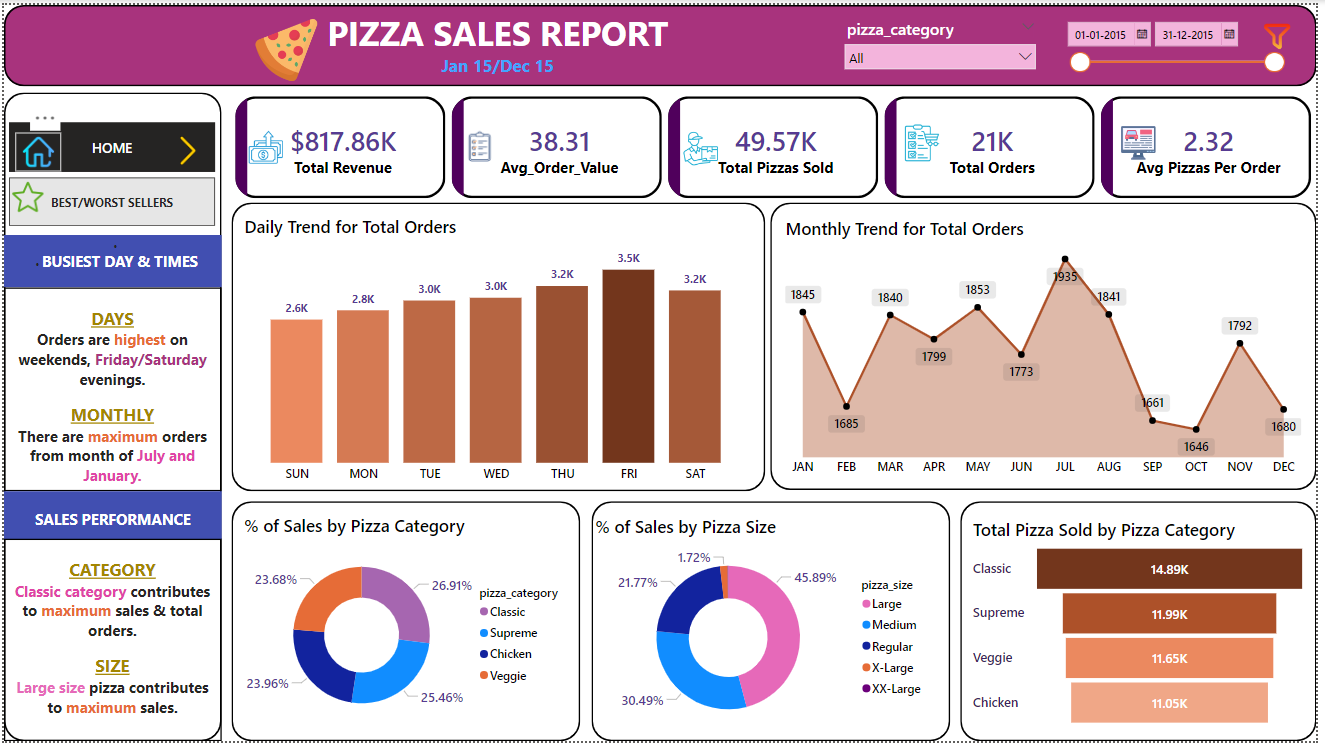

This screenshot's page, from the dashboard's own definition file:
{"tool":"powerbi","page":{"name":"HOME","canvas":[1650,925],"ordinal":0},"visuals":[{"type":"cardVisual","fields":{"Data":["pizza_sales.Total Revenue","pizza_sales.Avg_Order_Value","pizza_sales.Total Pizzas Sold","pizza_sales.Total Orders","pizza_sales.Avg Pizzas Per Order"]},"box":[285.9,110,1363.6,138.2],"z":0},{"type":"shape","box":[285.9,248.2,670.8,362.9],"z":1000},{"type":"columnChart","title":"Daily Trend for Total Orders","fields":{"Category":["pizza_sales.Order Day"],"Y":["pizza_sales.Total Orders"]},"box":[296.9,263.9,644.1,345.6],"z":2000},{"type":"shape","box":[963,248.2,686.5,361.3],"z":3000},{"type":"areaChart","title":"Monthly Trend for Total Orders","fields":{"Category":["pizza_sales.Order Month"],"Y":["pizza_sales.Total Orders"]},"box":[977.2,265.5,658.2,336.2],"z":4000},{"type":"shape","box":[285.9,623.7,438.3,301.6],"z":5000},{"type":"shape","box":[0,110,273.4,815.3],"z":6000},{"type":"shape","box":[738.4,623.7,450.9,301.6],"z":7000},{"type":"shape","box":[1201.8,623.7,447.7,301.6],"z":8000},{"type":"donutChart","title":"% of Sales by Pizza Category","fields":{"Category":["pizza_sales.pizza_category"],"Y":["pizza_sales.Total Revenue"]},"box":[296.9,639.4,427.3,281.2],"z":9000},{"type":"donutChart","title":"% of Sales by Pizza Size","fields":{"Y":["pizza_sales.Total Revenue"],"Category":["pizza_sales.pizza_size"]},"box":[738.4,641,432,284.4],"z":10000},{"type":"funnel","title":"Total Pizza Sold by Pizza Category","fields":{"Category":["pizza_sales.pizza_category"],"Y":["pizza_sales.Total Pizzas Sold"]},"box":[1212.8,644.1,428.9,268.6],"z":11000},{"type":"textbox","box":[0,289.1,273.4,66],"z":12000},{"type":"textbox","box":[0,355,273.4,256.1],"z":13000},{"type":"textbox","box":[0,611.1,273.4,59.7],"z":14000},{"type":"textbox","box":[0,670.8,273.4,254.5],"z":15000},{"type":"shape","box":[0,0,1649.6,102.1],"z":16000},{"type":"textbox","box":[359.8,0,521.6,102.1],"z":17000},{"type":"slicer","fields":{"Values":["pizza_sales.pizza_category"]},"box":[1046.3,11,260.8,102.1],"z":18000},{"type":"slicer","fields":{"Values":["pizza_sales.order_date"]},"box":[1324.4,11,293.8,80.1],"z":19000},{"type":"pageNavigator","box":[6.3,147.7,259.2,62.8],"z":20000},{"type":"pageNavigator","box":[6.3,216.8,259.2,61.3],"z":21000},{"type":"image","box":[230.9,11,248.2,91.1],"z":22000},{"type":"image","box":[285.9,149.2,86.4,59.7],"z":23000},{"type":"image","box":[573.4,146.1,48.7,62.8],"z":24000},{"type":"image","box":[848.3,144.5,55,72.3],"z":25000},{"type":"image","box":[1118.6,144.5,70.7,58.1],"z":26000},{"type":"image","box":[1388.8,146.1,73.8,55],"z":27000},{"type":"image","box":[188.5,160.2,84.8,45.6],"z":28000},{"type":"image","box":[14.1,160.2,58.1,48.7],"z":29000},{"type":"image","box":[0,216.8,59.7,48.7],"z":30000},{"type":"image","box":[1558.4,11,83.3,56.6],"z":31000}]}

Visuals, with their boxes in screenshot pixels (x1, y1, x2, y2), scaled from the page's 1650x925 canvas onto the 1325x745 screenshot:
cardVisual - pizza_sales.Total Revenue x pizza_sales.Avg_Order_Value: Rect(230, 89, 1324, 200)
shape: Rect(230, 200, 768, 492)
"Daily Trend for Total Orders" columnChart: Rect(238, 213, 756, 491)
shape: Rect(773, 200, 1324, 491)
"Monthly Trend for Total Orders" areaChart: Rect(785, 214, 1313, 485)
shape: Rect(230, 502, 582, 744)
shape: Rect(0, 89, 220, 744)
shape: Rect(593, 502, 955, 744)
shape: Rect(965, 502, 1324, 744)
"% of Sales by Pizza Category" donutChart: Rect(238, 515, 582, 741)
"% of Sales by Pizza Size" donutChart: Rect(593, 516, 940, 744)
"Total Pizza Sold by Pizza Category" funnel: Rect(974, 519, 1318, 735)
textbox: Rect(0, 233, 220, 286)
textbox: Rect(0, 286, 220, 492)
textbox: Rect(0, 492, 220, 540)
textbox: Rect(0, 540, 220, 744)
shape: Rect(0, 0, 1324, 82)
textbox: Rect(289, 0, 708, 82)
slicer - pizza_sales.pizza_category: Rect(840, 9, 1050, 91)
slicer - pizza_sales.order_date: Rect(1064, 9, 1299, 73)
pageNavigator: Rect(5, 119, 213, 170)
pageNavigator: Rect(5, 175, 213, 224)
image: Rect(185, 9, 385, 82)
image: Rect(230, 120, 299, 168)
image: Rect(460, 118, 500, 168)
image: Rect(681, 116, 725, 175)
image: Rect(898, 116, 955, 163)
image: Rect(1115, 118, 1175, 162)
image: Rect(151, 129, 219, 166)
image: Rect(11, 129, 58, 168)
image: Rect(0, 175, 48, 214)
image: Rect(1251, 9, 1318, 54)
